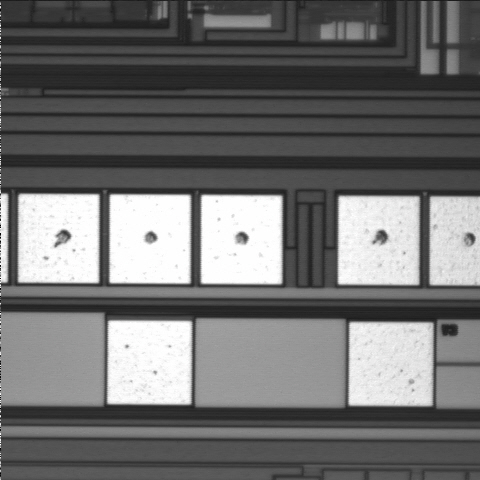pad: (109, 194, 191, 284), (18, 194, 99, 283), (201, 195, 282, 284), (338, 196, 419, 285), (107, 320, 192, 404), (349, 322, 433, 406)
